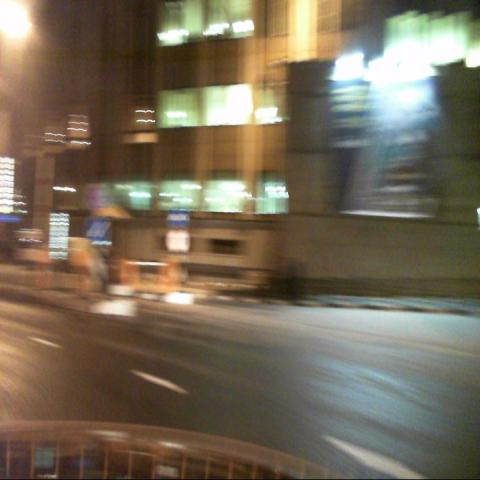4_2_2: (98, 218, 112, 244)
